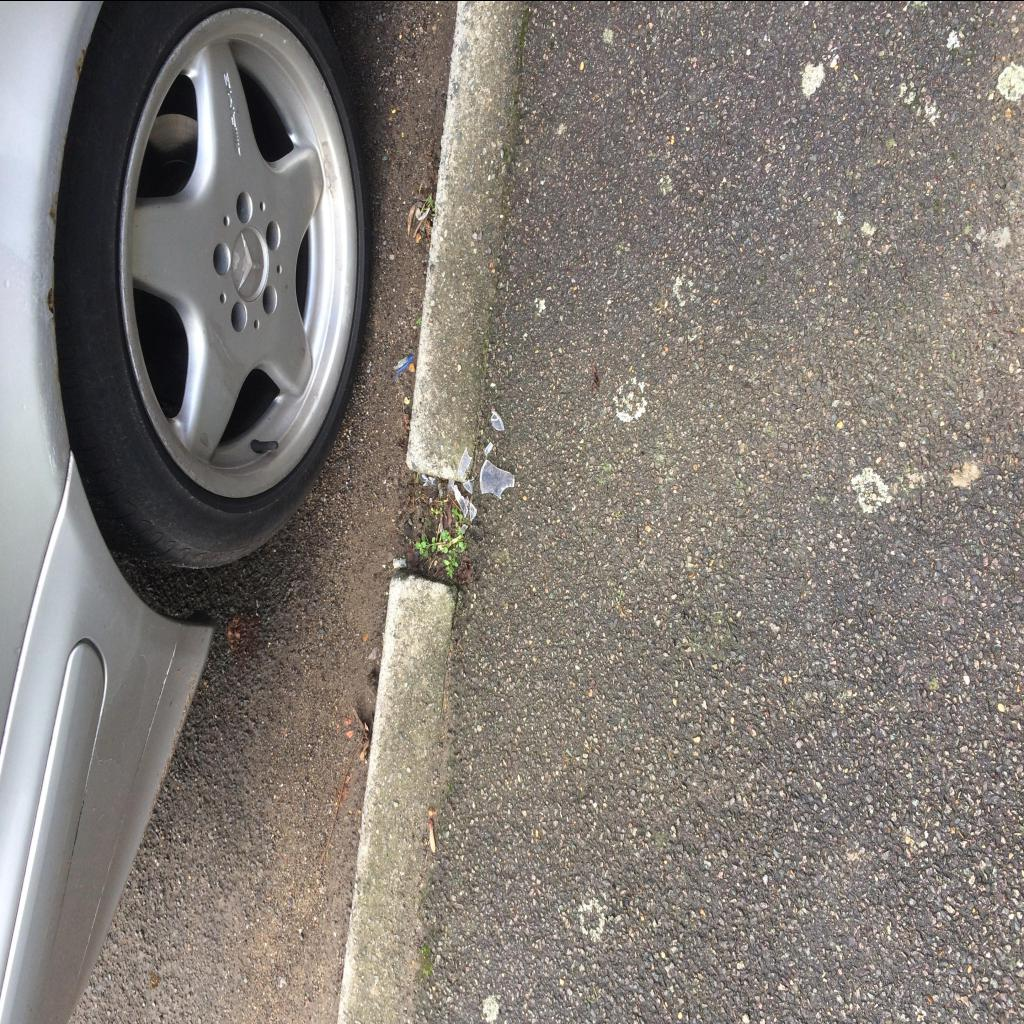Other plastic bottle: (480, 458, 515, 498)
Unlabeled litter: (451, 484, 469, 517), (458, 446, 472, 478), (490, 410, 504, 430), (463, 477, 473, 493), (484, 440, 494, 455), (470, 502, 478, 520)
